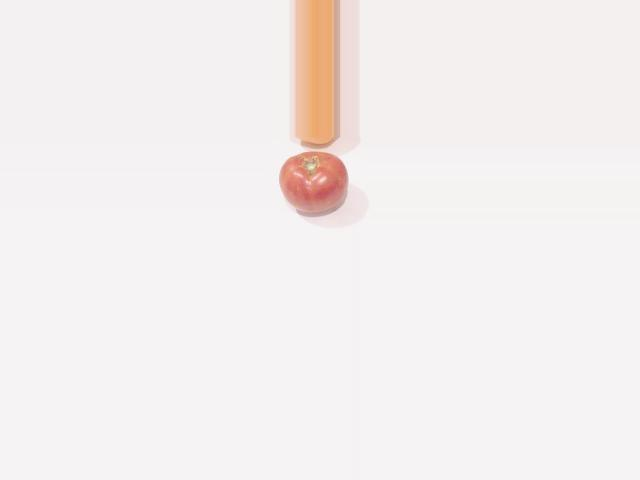tomato: (278, 152, 347, 212)
